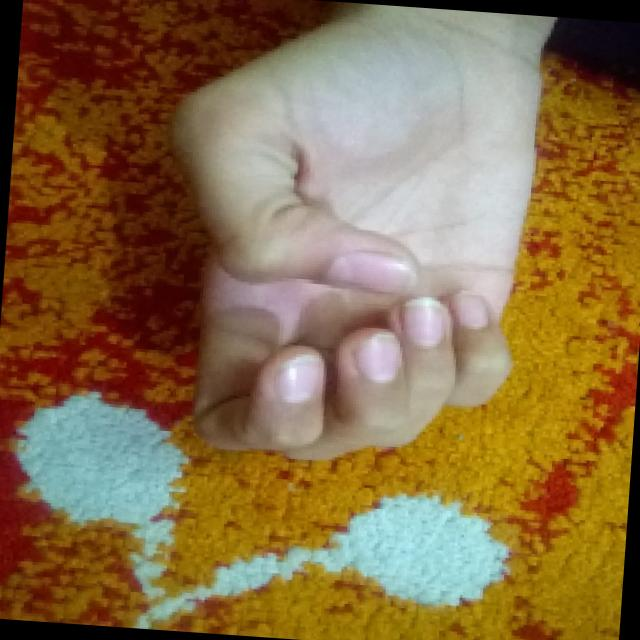Nail: (326, 250, 415, 292), (274, 353, 321, 402), (356, 330, 400, 382), (403, 296, 445, 346), (449, 290, 486, 326)
